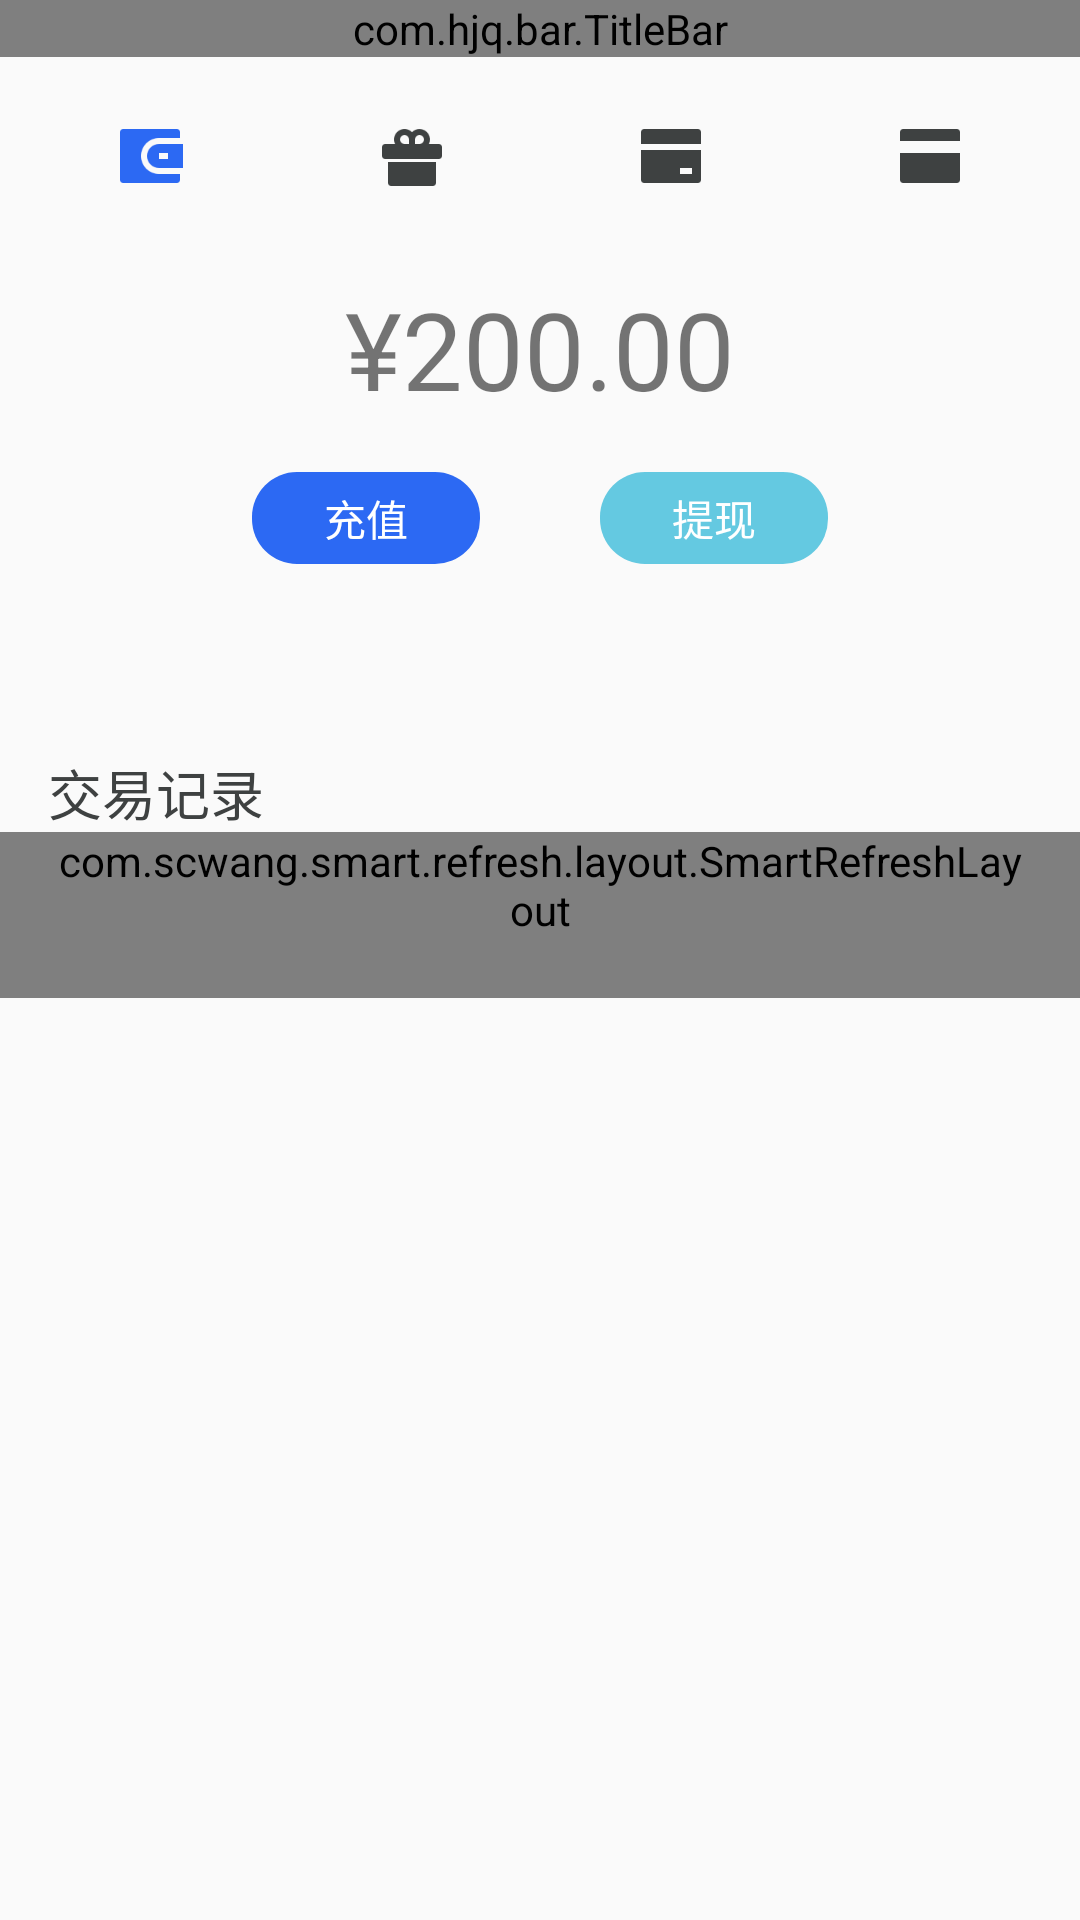

Where icons sit on this 1080*1920 app screen, as {"x1": x1, "y1": y1, "x2": x2, "y2": y2}:
bank card: {"x1": 641, "y1": 129, "x2": 701, "y2": 183}
gift: {"x1": 382, "y1": 129, "x2": 442, "y2": 186}
wallet: {"x1": 120, "y1": 129, "x2": 183, "y2": 183}
